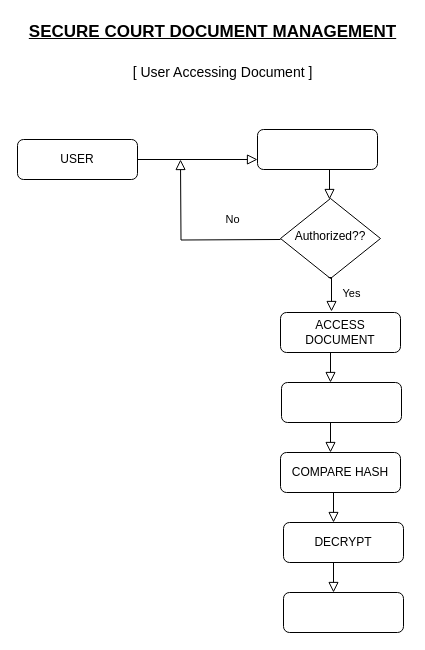
The diagram is 425 pixels wide and 650 high, and some of its shapes have lost their labels. The box of each missing label's shape, as (x1, y1, x2, y2) in pixels:
AUTHENTICATE: (256, 128, 378, 170)
LOG ACTION ( audit trail ): (282, 592, 404, 632)
VERIFY SIGNATURE: (280, 382, 402, 422)
